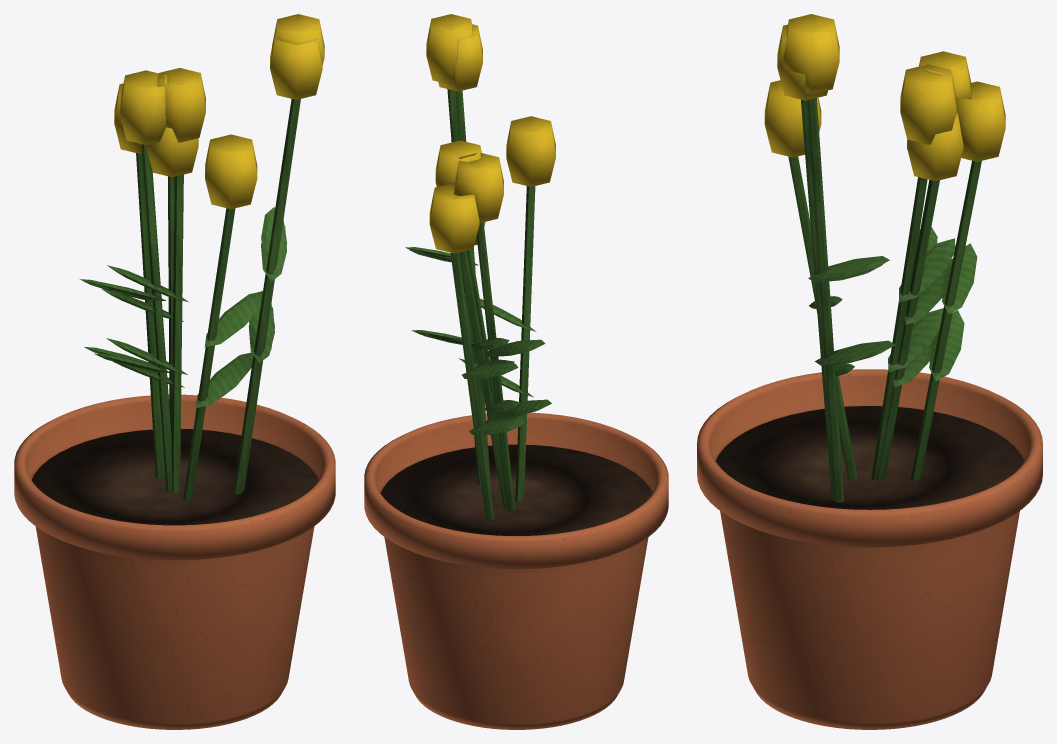
File: yellow-tulips.glb
3 views of the same model, side by side, from view 1: azimuth 30°, elevation 25°; view 2: azimuth 150°, elevation 25°; view 3: azimuth 270°, elevation 25° (orthographic). The views are drawn at different scales.
Visible parts, largest first — view 1: terracotta, flower_stem, soil, petals; view 2: terracotta, soil, flower_stem, petals; view 3: terracotta, flower_stem, soil, petals.
Part boxes in pixels (left/top/right/bottom): terracotta: left=14, top=394, right=335, bottom=729; flower_stem: left=79, top=99, right=300, bottom=500; soil: left=31, top=429, right=318, bottom=525; petals: left=114, top=14, right=324, bottom=209; terracotta: left=364, top=412, right=668, bottom=729; soil: left=380, top=444, right=652, bottom=535; flower_stem: left=405, top=89, right=551, bottom=520; petals: left=426, top=14, right=555, bottom=253; terracotta: left=697, top=369, right=1042, bottom=729; flower_stem: left=788, top=98, right=981, bottom=502; soil: left=716, top=406, right=1023, bottom=509; petals: left=764, top=14, right=1005, bottom=181.
Bounding box in the file's own units: 0.212 × 0.4771 × 0.212.
Materials: 4 (4 with a texture image).
